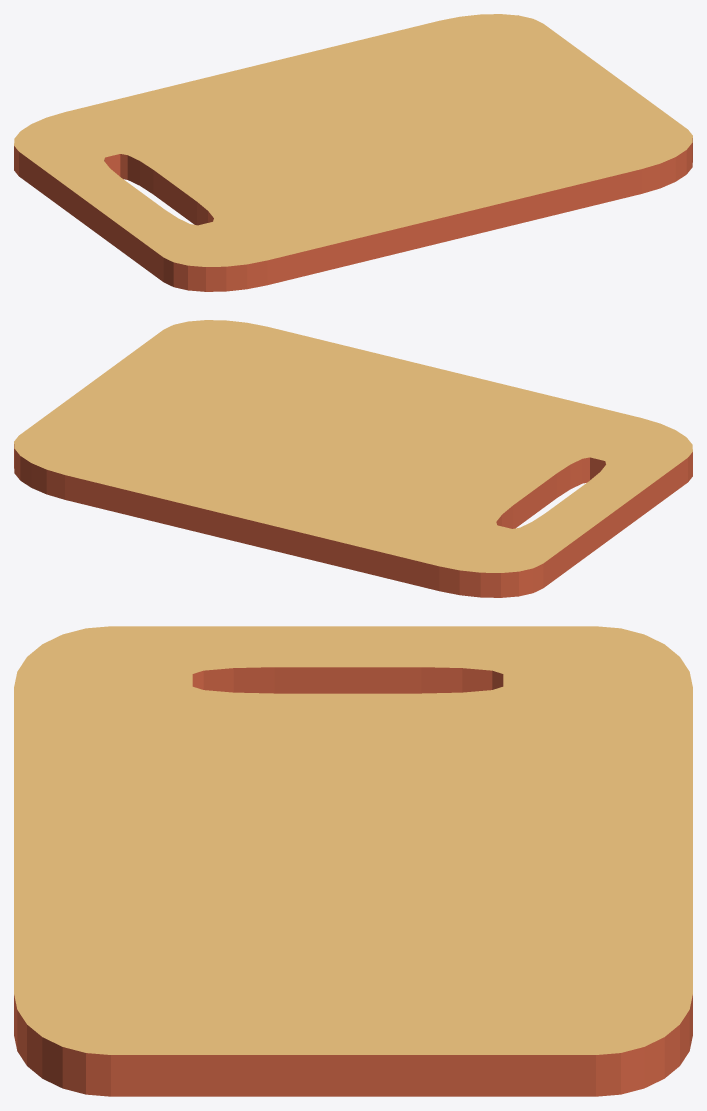
The model's file is Res01_Cutting_Plate_01.fbx.
3 views of the same model, one above another, from view 1: azimuth 30°, elevation 25°; view 2: azimuth 150°, elevation 25°; view 3: azimuth 270°, elevation 25° (orthographic). The views are drawn at different scales.
Visible parts, largest first — view 1: Res01_Cutting_Plate_01; view 2: Res01_Cutting_Plate_01; view 3: Res01_Cutting_Plate_01.
Part boxes in pixels (x1,y1,x2,y2): Res01_Cutting_Plate_01: (14,14,692,291); Res01_Cutting_Plate_01: (14,320,692,597); Res01_Cutting_Plate_01: (14,626,692,1096).
Bounding box in the file's own units: 101 × 4.56 × 67.4.
